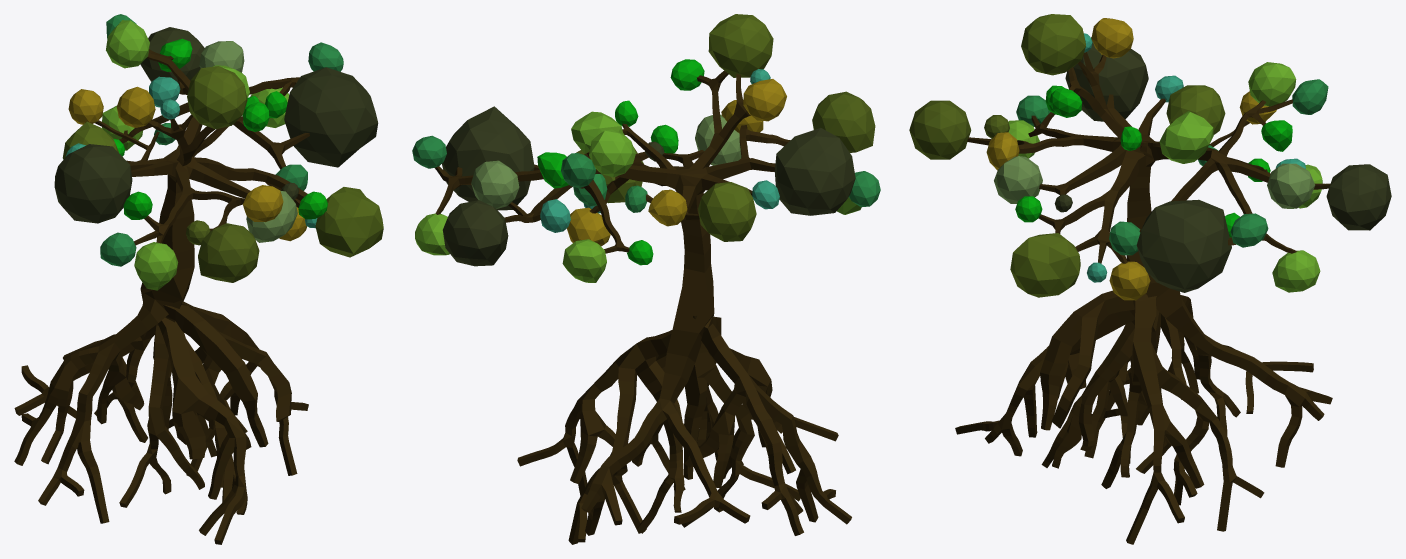
Rendered from mangrove_finalFBX.fbx.
The picture shows the model from 3 angles, left to right: view 1: azimuth 30°, elevation 25°; view 2: azimuth 150°, elevation 25°; view 3: azimuth 270°, elevation 25°; orthographic projection. The views are drawn at different scales.
Parts seen in each view (by area): view 1: Plane; view 2: Plane; view 3: Plane.
Boxes of the visible parts, <box> form: Plane: <box>14,14,383,544</box>; Plane: <box>412,14,880,544</box>; Plane: <box>909,14,1391,544</box>.
Bounding box in the file's own units: 402 × 495 × 455.
